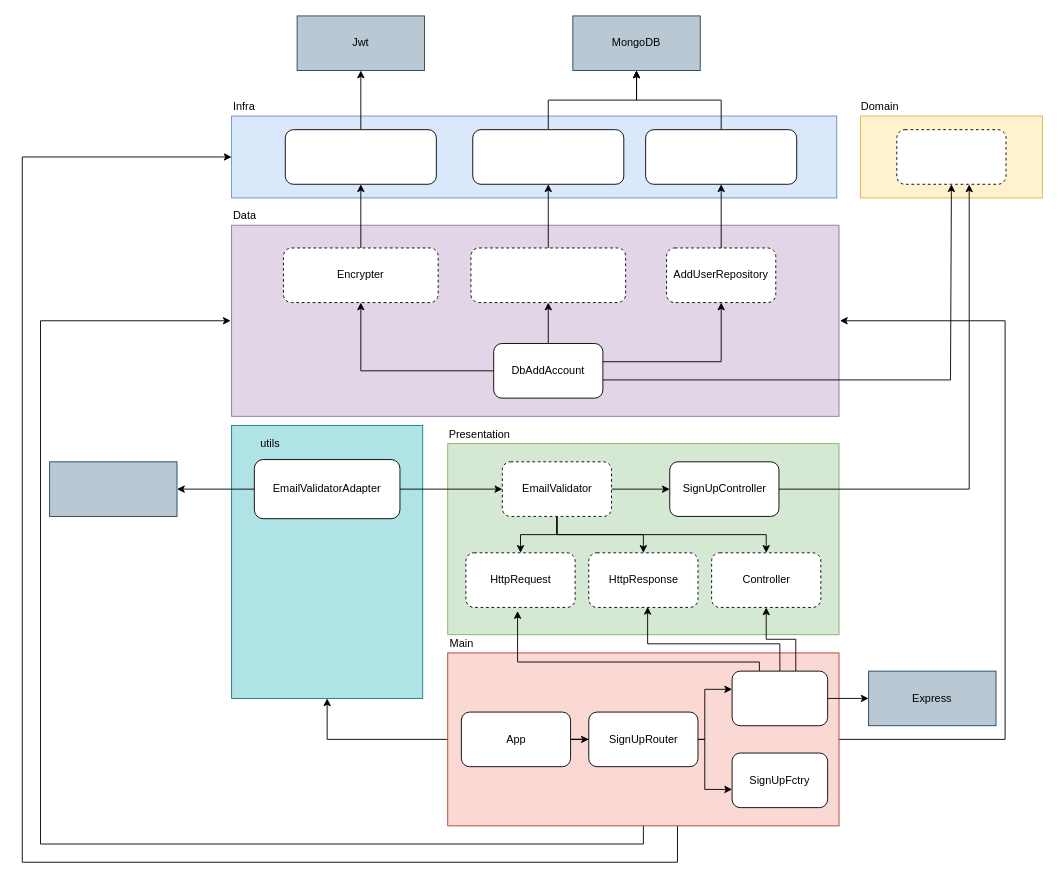
The diagram is 1058 pixels wide and 885 high, and some of its shapes have lost their labels. Each missing label, with the box of its shape:
AddAccount: (896, 129, 1006, 184)
DbAddUserRepository: (645, 129, 797, 184)
DbLoadByEmailRepository: (472, 129, 624, 184)
ExpressRtAdpter: (731, 670, 828, 726)
JwtEncrypterAdapter: (284, 129, 436, 184)
LoadByEmailRepository: (470, 247, 626, 303)
Validator: (49, 461, 177, 516)
